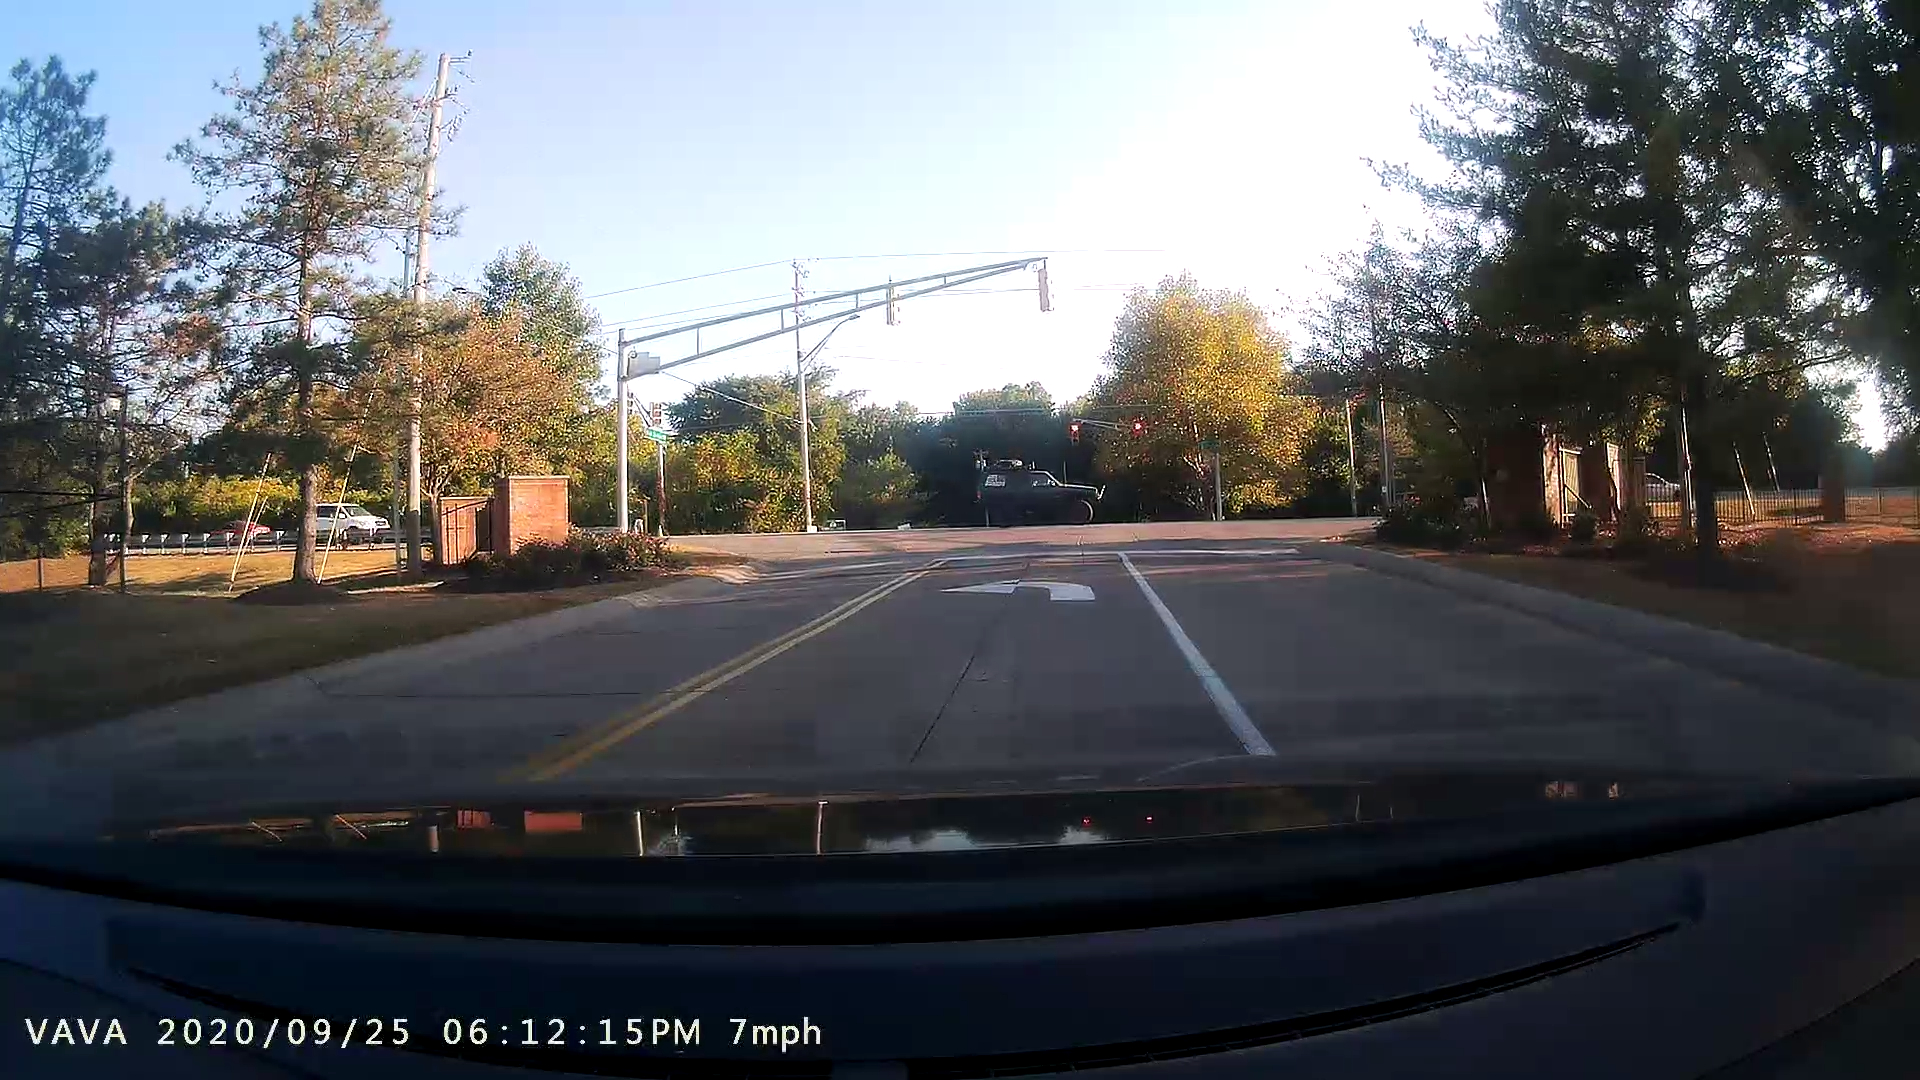left_turn: (938, 570, 1110, 618)
